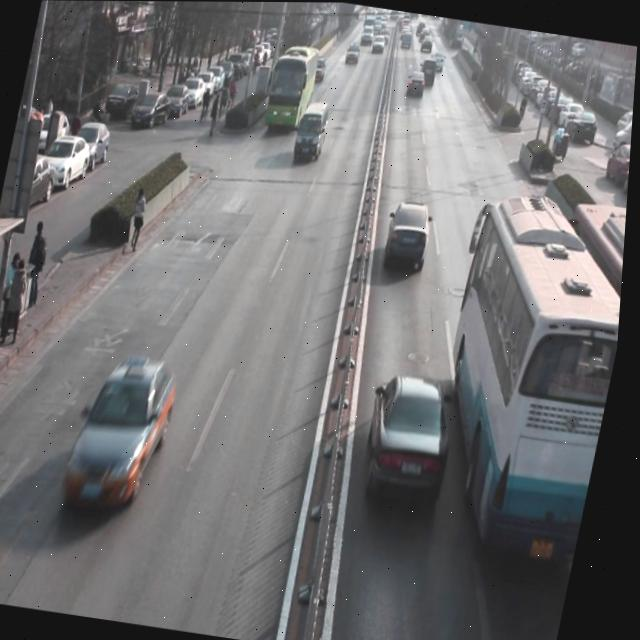car: (66, 358, 186, 519), (360, 370, 472, 512), (382, 199, 441, 278), (417, 57, 441, 86), (406, 69, 429, 99), (344, 41, 364, 66), (313, 55, 329, 84)
truck: (293, 102, 333, 166)
van: (418, 186, 630, 567), (529, 200, 630, 452), (261, 45, 320, 137)
